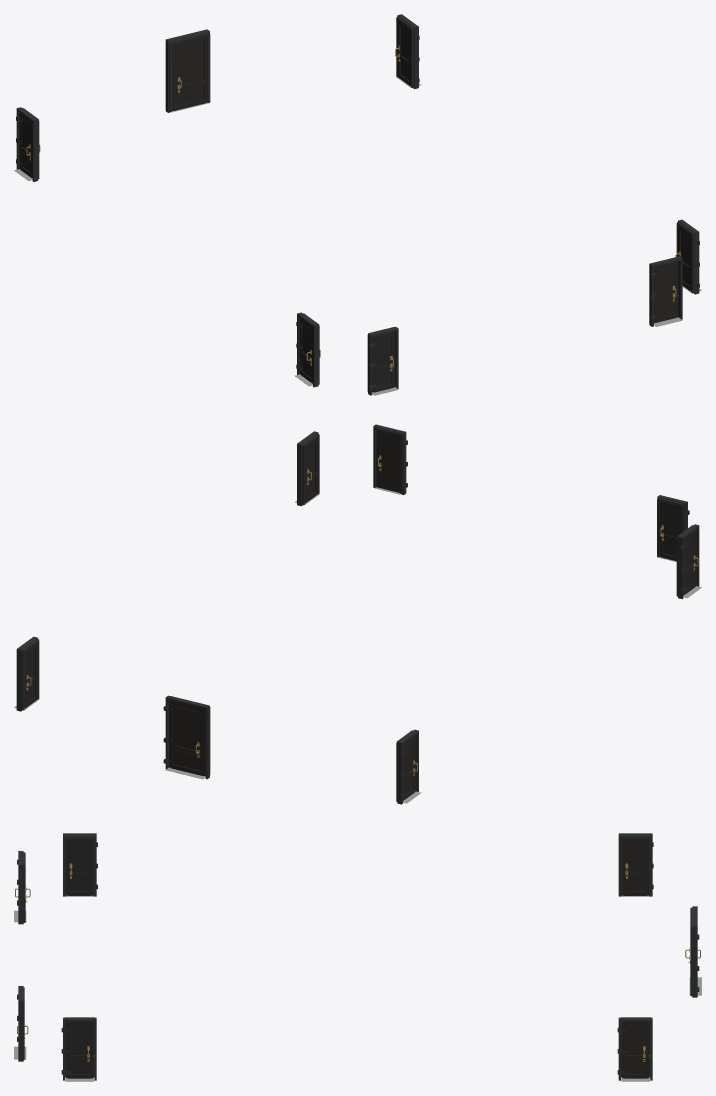
Rendered from Stage1_PersonnelLiveParts.fbx.
3 views of the same model, one above another, from view 1: azimuth 30°, elevation 25°; view 2: azimuth 150°, elevation 25°; view 3: azimuth 270°, elevation 25° (orthographic).
Parts seen in each view (by area): view 1: LivePersonnelRemainder, LiveFrontRightLeaf; view 2: LivePersonnelRemainder, LiveFrontRightLeaf; view 3: LivePersonnelRemainder.
Part boxes in pixels (x1=…): LivePersonnelRemainder: x1=14, y1=14, x2=701, y2=395; LiveFrontRightLeaf: x1=654, y1=261, x2=678, y2=323; LivePersonnelRemainder: x1=14, y1=424, x2=701, y2=804; LiveFrontRightLeaf: x1=376, y1=430, x2=400, y2=492; LivePersonnelRemainder: x1=14, y1=833, x2=701, y2=1081.
Size of the model in its own units: 16.22 by 2.83 by 24.82.
